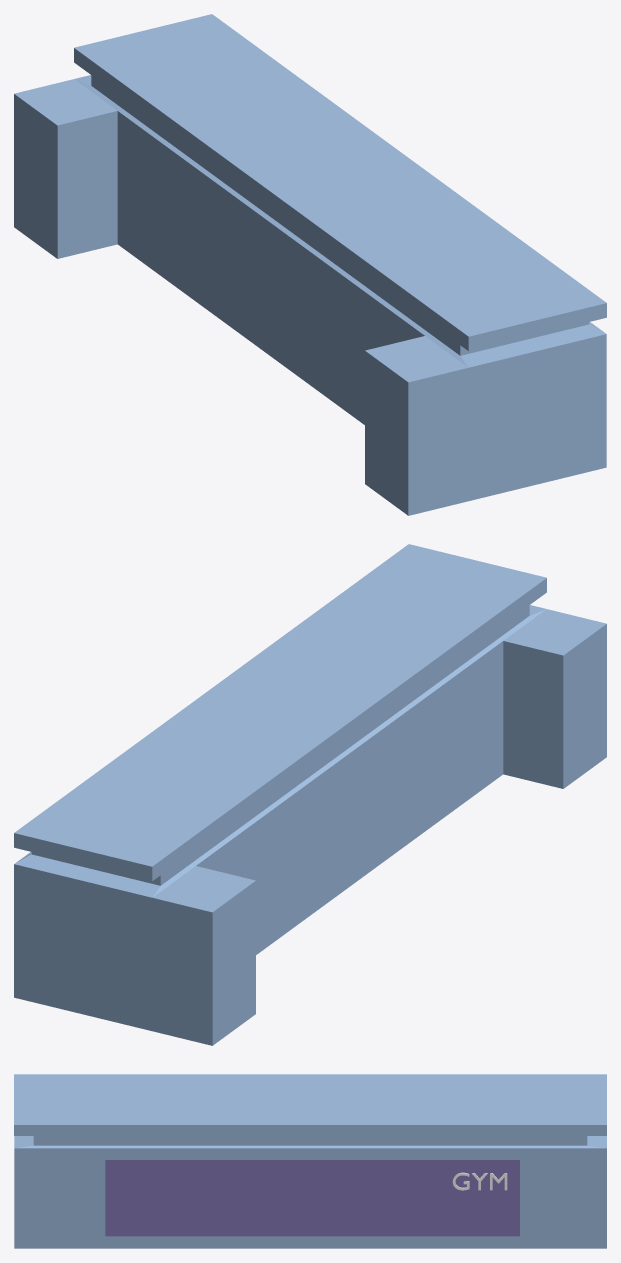
The model's file is front desk5.12.fbx.
3 views of the same model, one above another, from view 1: azimuth 30°, elevation 25°; view 2: azimuth 150°, elevation 25°; view 3: azimuth 270°, elevation 25° (orthographic). The views are drawn at different scales.
Visible parts, largest first — view 1: Cube; view 2: Cube; view 3: Cube, Cube.001, Text.
Boxes of the visible parts, x1,y1,x2,y2 form: Cube: [14, 14, 606, 515]; Cube: [14, 544, 606, 1045]; Cube: [14, 1074, 606, 1248]; Cube.001: [105, 1159, 519, 1236]; Text: [452, 1172, 507, 1190].
Bounding box in the file's own units: 156 × 121 × 525.
